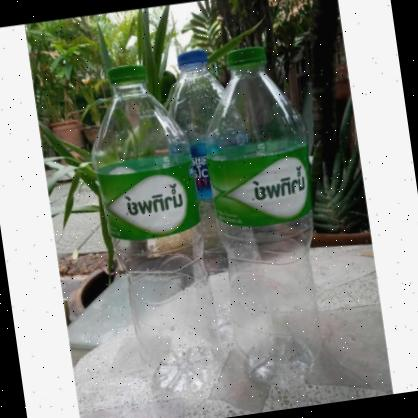bottle: (192, 38, 340, 392), (80, 57, 226, 406)
cap: (222, 43, 270, 75), (104, 64, 151, 93)
label: (208, 138, 317, 234), (100, 162, 200, 245)
